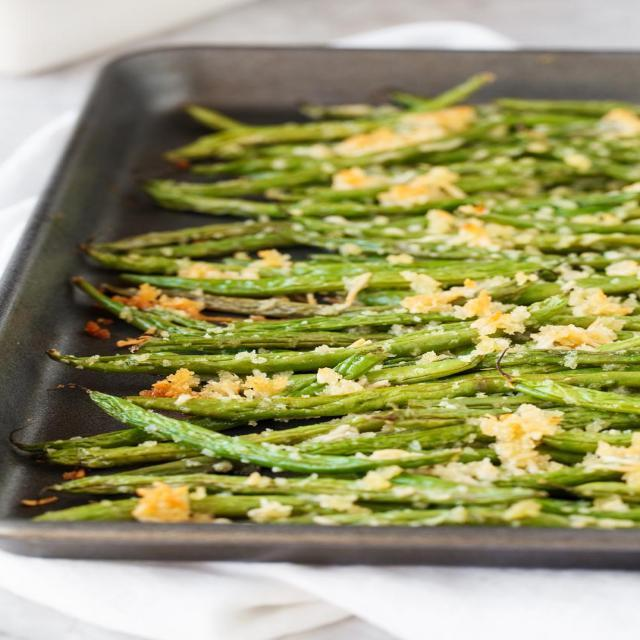Beans: (0, 91, 639, 531)
